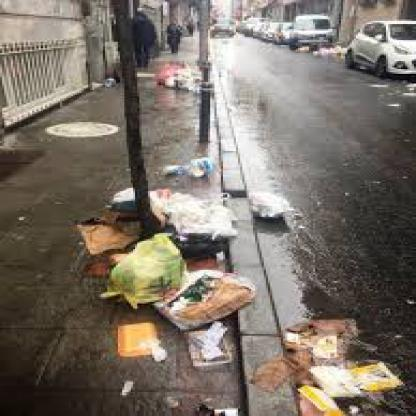Garbage: (283, 316, 403, 414), (146, 266, 264, 330), (150, 184, 240, 263), (113, 240, 188, 308), (118, 321, 165, 360), (156, 154, 224, 180), (247, 193, 298, 225)
